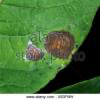Potato leaf early blight: (0, 1, 99, 93)
